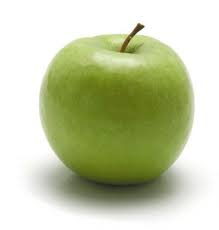apple: (43, 34, 193, 184)
